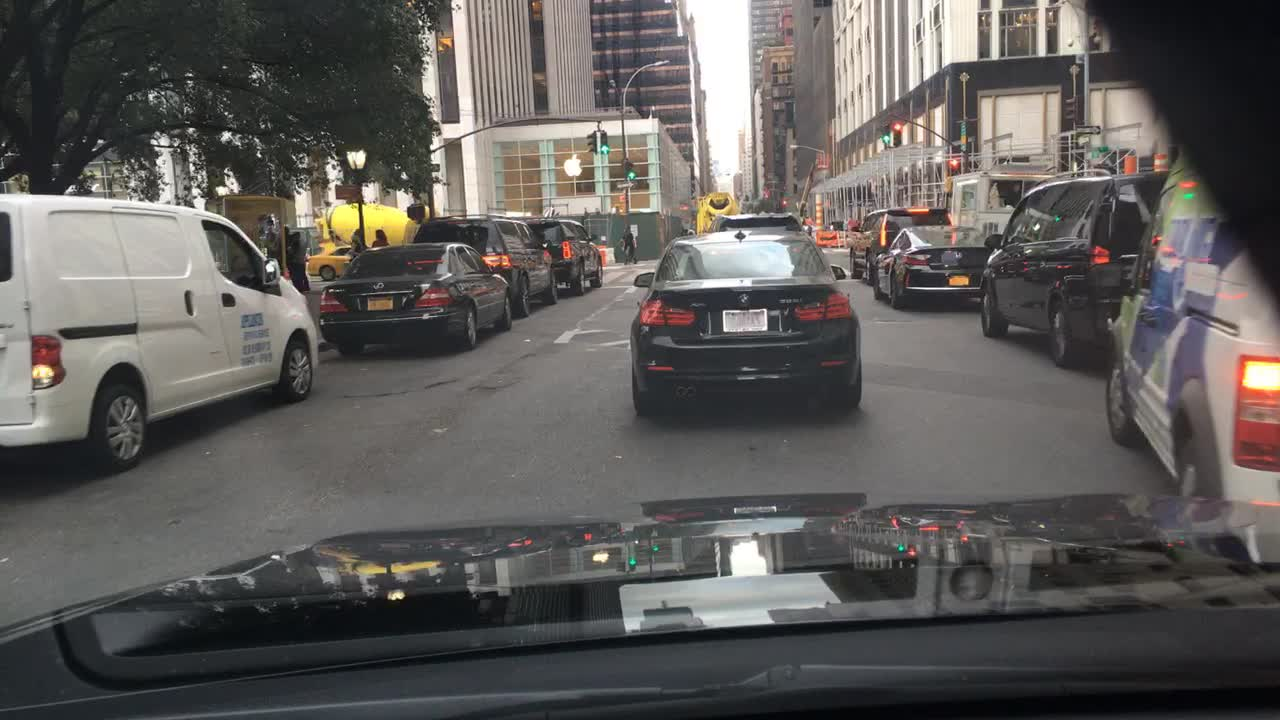car: (0, 191, 319, 472), (1102, 152, 1279, 503), (629, 229, 862, 418), (977, 167, 1171, 368), (317, 239, 513, 356), (413, 216, 557, 320), (869, 224, 995, 309), (849, 202, 950, 287), (526, 219, 602, 293), (307, 245, 354, 282), (705, 214, 806, 229)
person: (275, 224, 312, 293), (617, 219, 639, 266), (288, 229, 305, 288), (347, 228, 364, 260), (369, 226, 388, 248)
traffic light: (584, 128, 597, 157), (891, 118, 903, 148), (622, 158, 636, 179), (599, 130, 609, 155), (948, 155, 958, 172), (881, 125, 889, 145)
traffic sign: (1083, 145, 1110, 162), (405, 202, 427, 219), (1075, 123, 1100, 135)
truck: (312, 194, 418, 250), (948, 175, 1049, 233), (692, 191, 739, 236)
